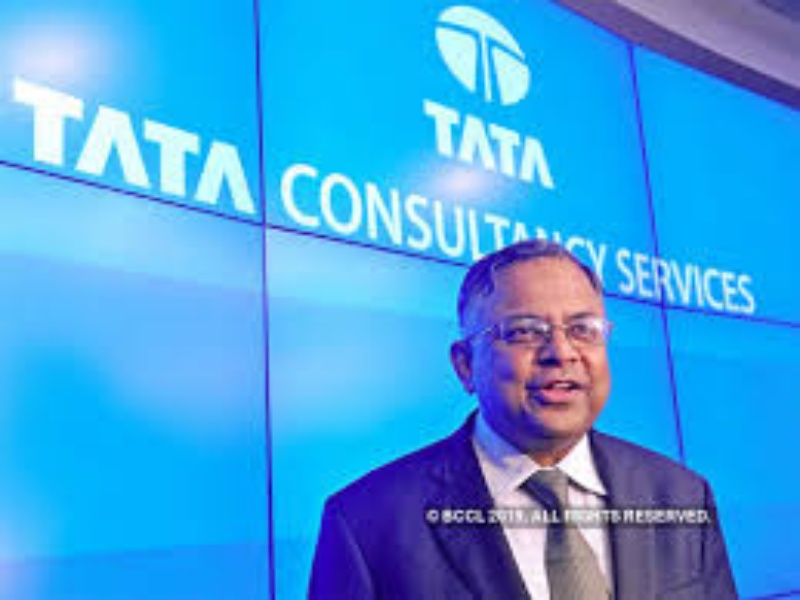tcs: (433, 4, 538, 115)
